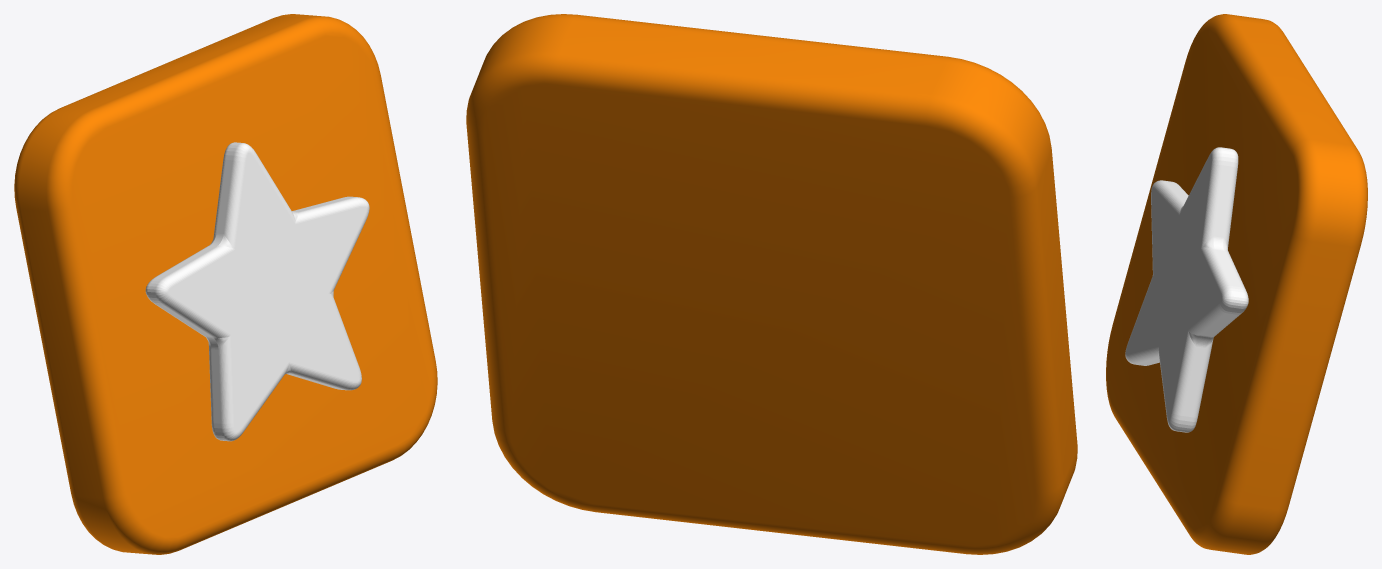
The model's file is stars.glb.
The picture shows the model from 3 angles, left to right: view 1: azimuth 30°, elevation 25°; view 2: azimuth 150°, elevation 25°; view 3: azimuth 270°, elevation 25°; orthographic projection. The views are drawn at different scales.
Visible parts, largest first — view 1: Plane.022, Circle.001; view 2: Plane.022; view 3: Plane.022, Circle.001.
Boxes of the visible parts, x1,y1,x2,y2 form: Plane.022: (14,14,437,554); Circle.001: (145,142,369,441); Plane.022: (466,14,1077,554); Plane.022: (1106,14,1367,554); Circle.001: (1125,147,1248,432).
Size of the model in its own units: 5.36 by 5.14 by 3.04.
